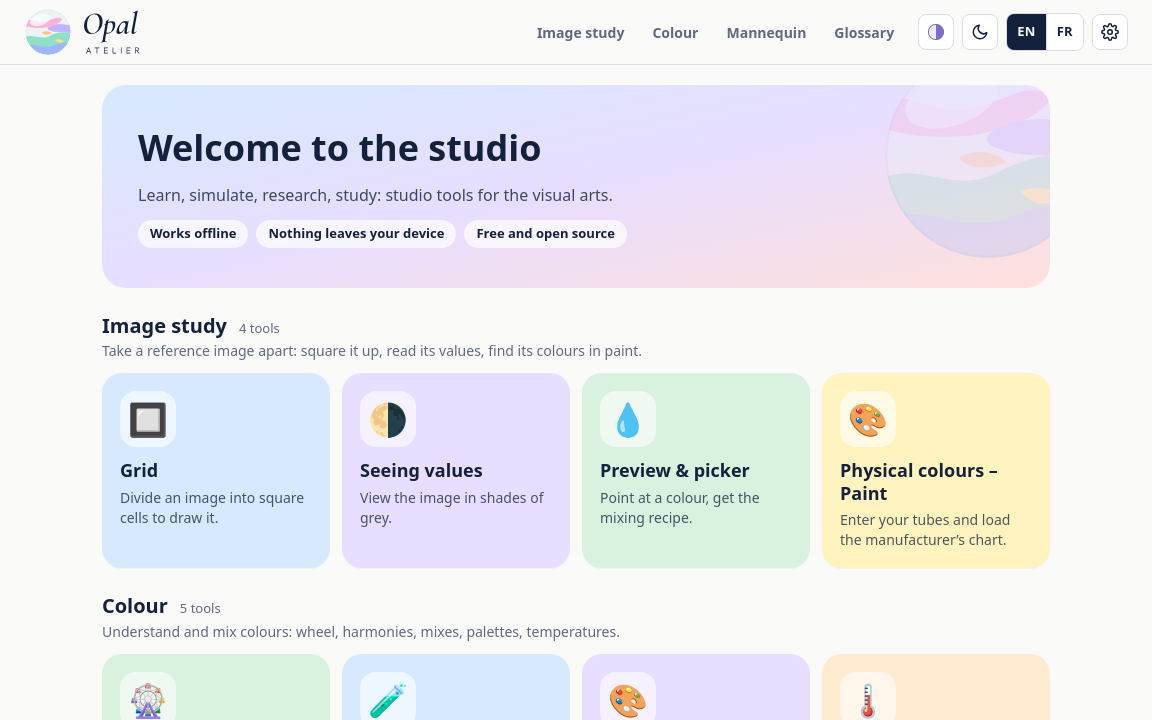
Test: theme menu › lists the five themes, Opal (the default) last, and closes once one is chosen
Step 1. Click the button named "Theme: Opal" → point(936, 32), box [918,14,954,50]
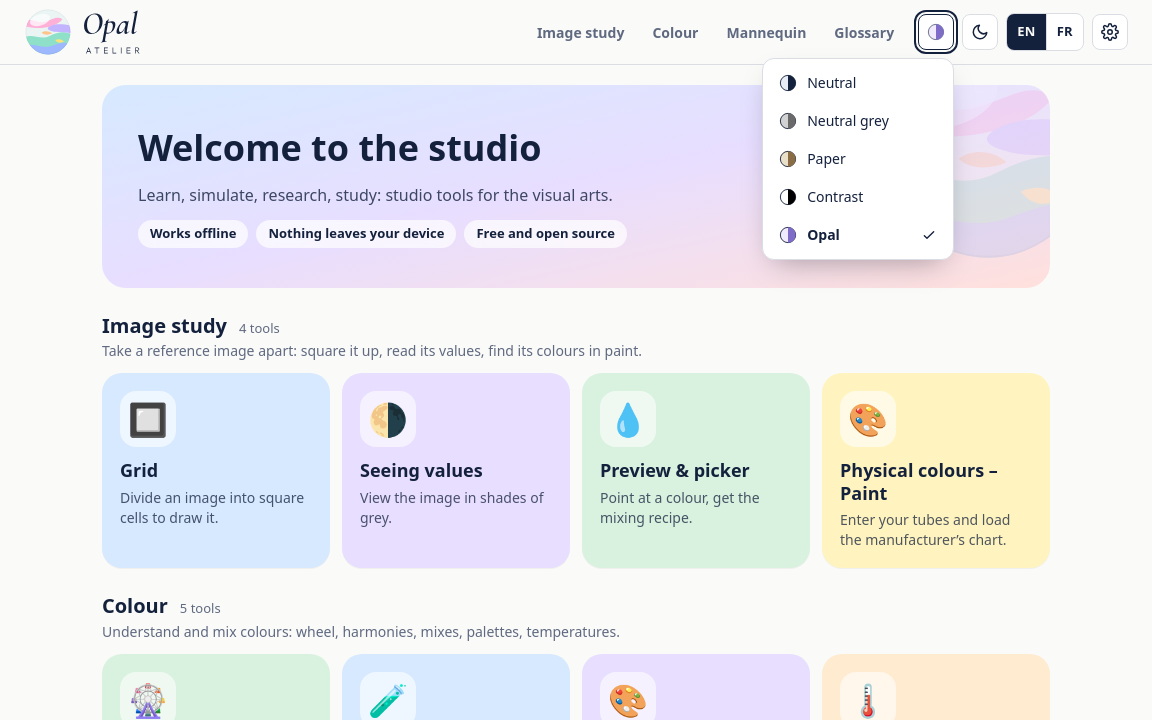
Check: the buttons read "Neutral", "Neutral grey", "Paper", "Contrast", "Opal", in this order
Step 2. Click the button "Neutral" → point(858, 83), box [769,65,947,101]
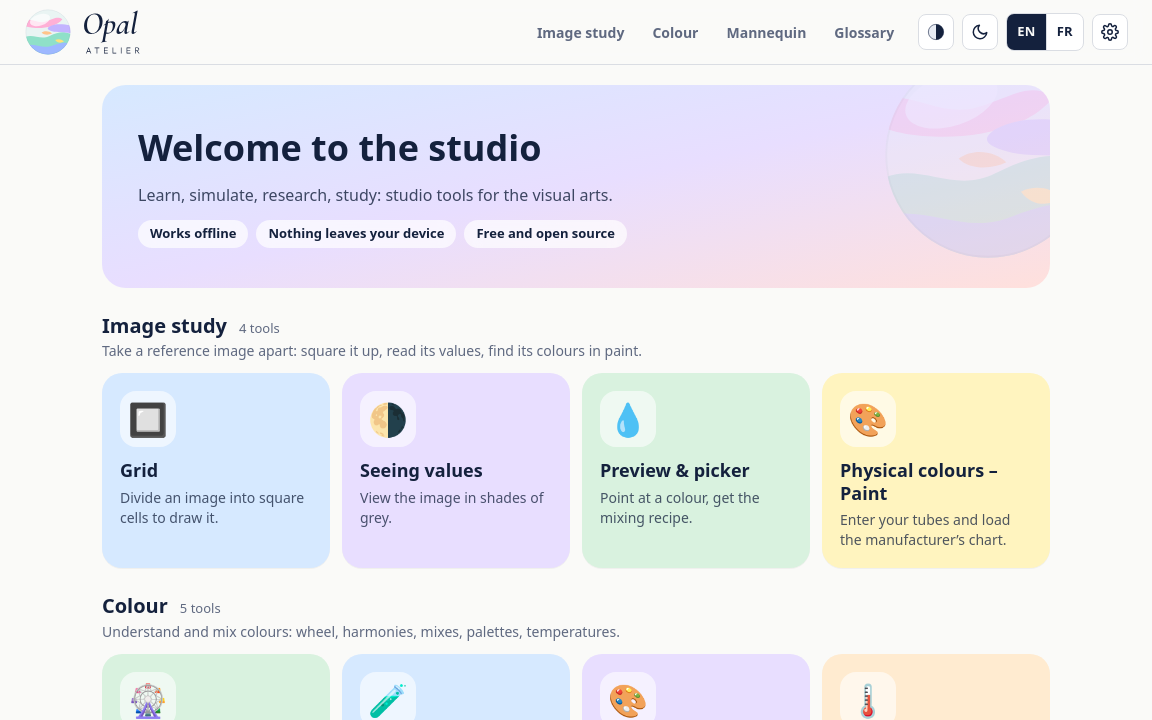
Check: the element "Theme" is gone
Check: the button named "Theme: Neutral" is shown, box [918,14,954,50]
